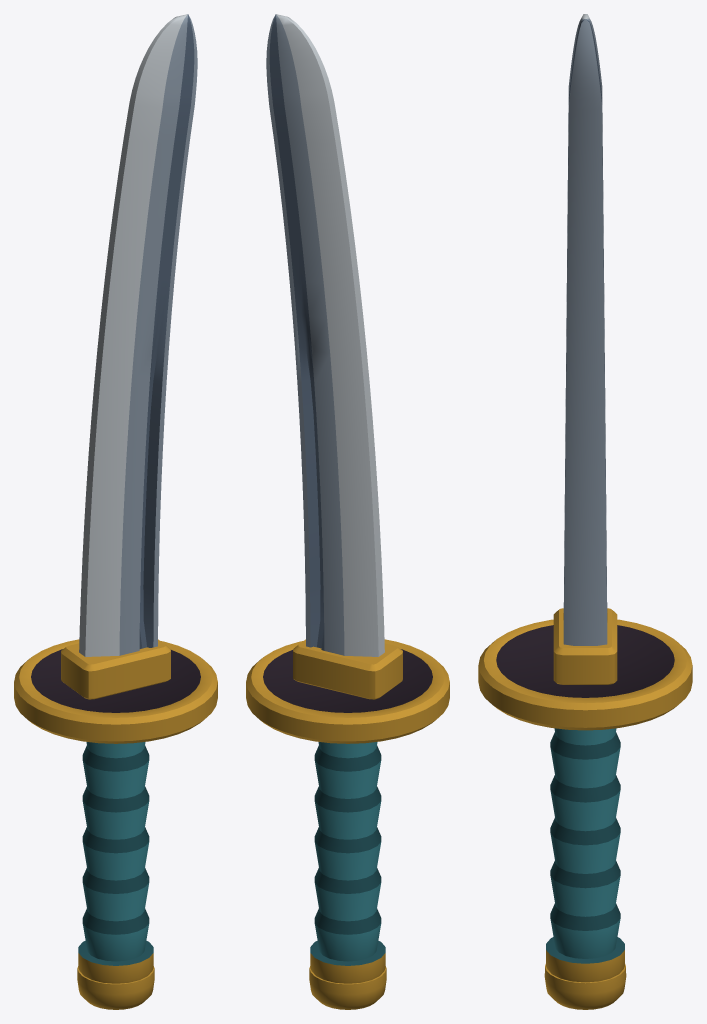
Rendered from Katana_02.glb.
3 views of the same model, side by side, from view 1: azimuth 30°, elevation 25°; view 2: azimuth 150°, elevation 25°; view 3: azimuth 270°, elevation 25° (orthographic). The views are drawn at different scales.
Parts seen in each view (by area): view 1: Katana_02; view 2: Katana_02; view 3: Katana_02.
Part boxes in pixels (x1,y1,x2,y2): Katana_02: (14,14,217,1009); Katana_02: (246,14,449,1009); Katana_02: (478,14,692,1009).
Bounding box in the file's own units: 1.21 × 6.33 × 1.21.
